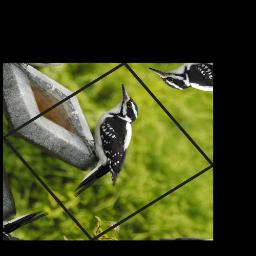Woodpecker: (26, 81, 180, 206)
